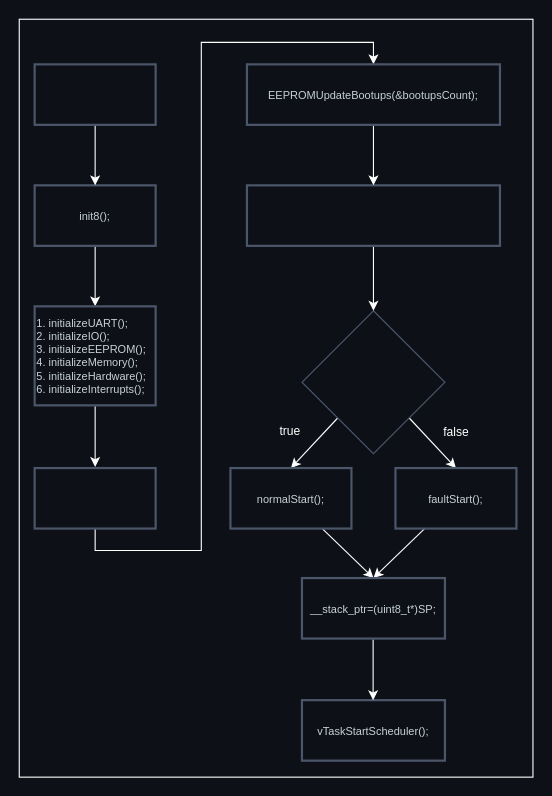
This 552x796 diagram has some shape labels left out. Each missing label, with the centre of its shape:
EEPROMGetLastStartupError(&lastSystemError);: pixel 373 215
lastSystemError.confirmed: pixel 373 382
main();: pixel 94 497
MCU reset: pixel 94 94
